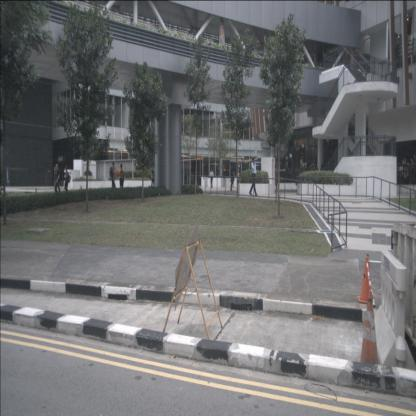cone: (357, 289, 382, 375), (357, 254, 376, 304)
